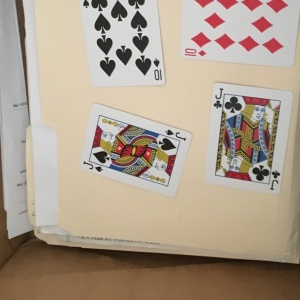card: (79, 102, 193, 198), (206, 81, 291, 194)
